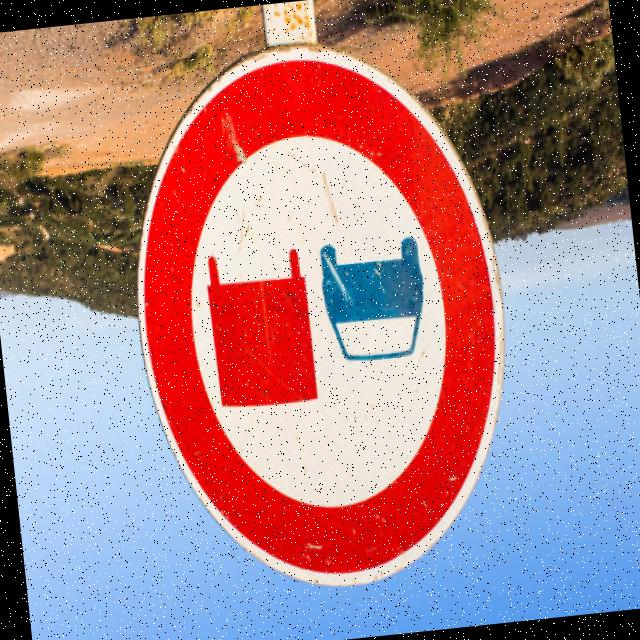no_passing: (106, 18, 536, 618)
